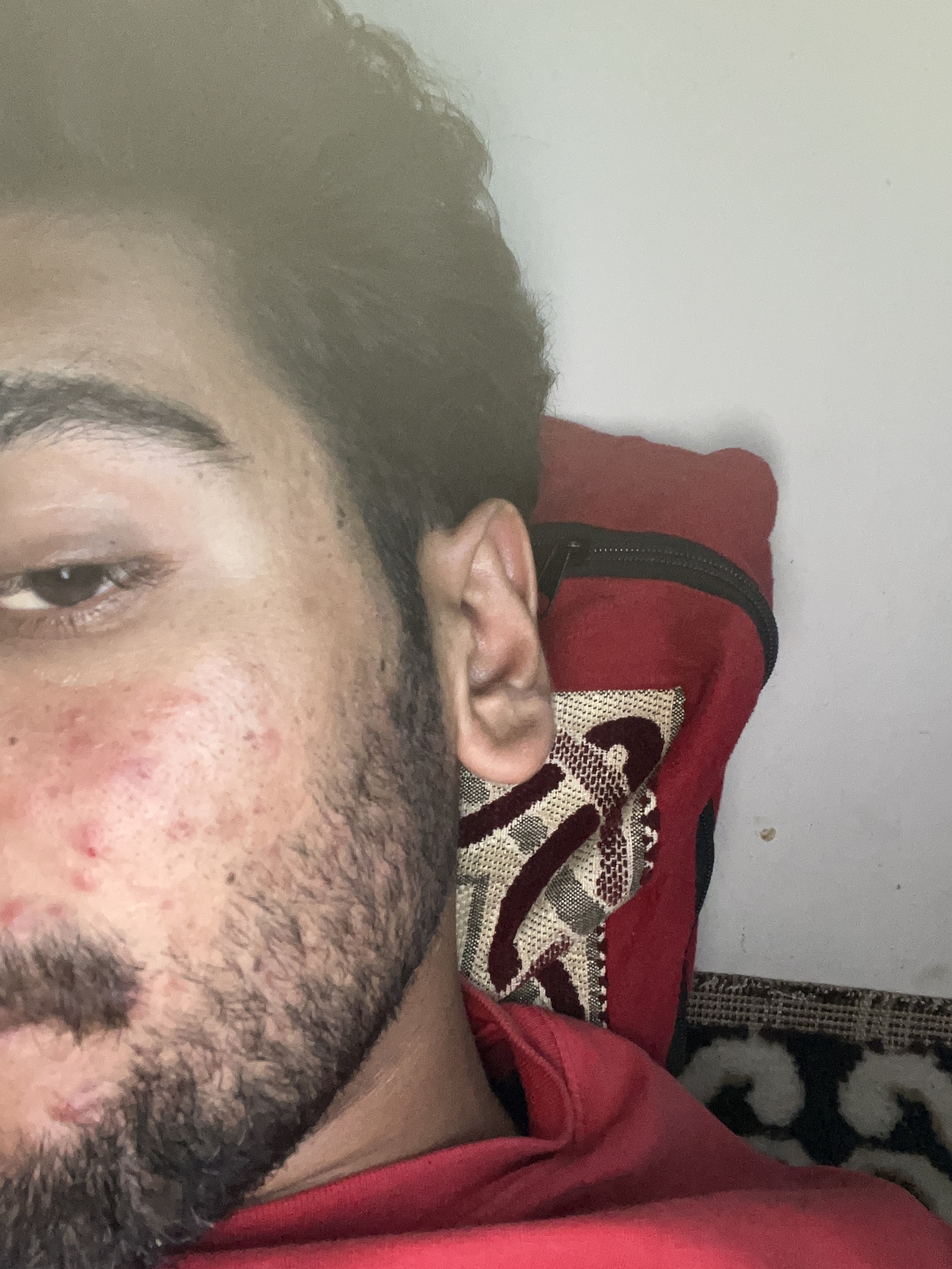nodule: (78, 868, 118, 902), (59, 697, 93, 731)
papule: (263, 731, 290, 765)
